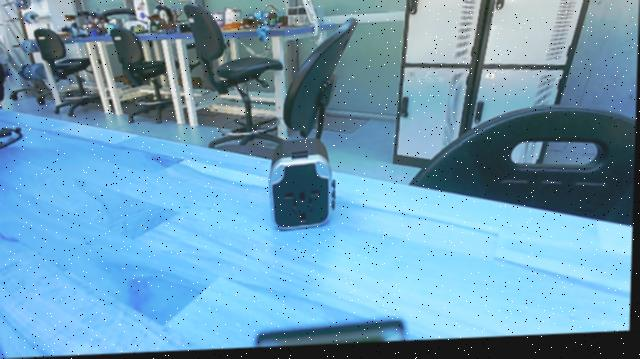adapter: (262, 139, 341, 241)
